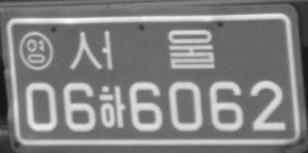0: (168, 80, 203, 132), (24, 80, 58, 132)
2: (250, 79, 286, 132)
6: (61, 81, 96, 133), (208, 80, 243, 132), (129, 80, 163, 132)
서울_D: (68, 28, 215, 71)
영: (18, 31, 54, 71)
하: (99, 84, 126, 128)
